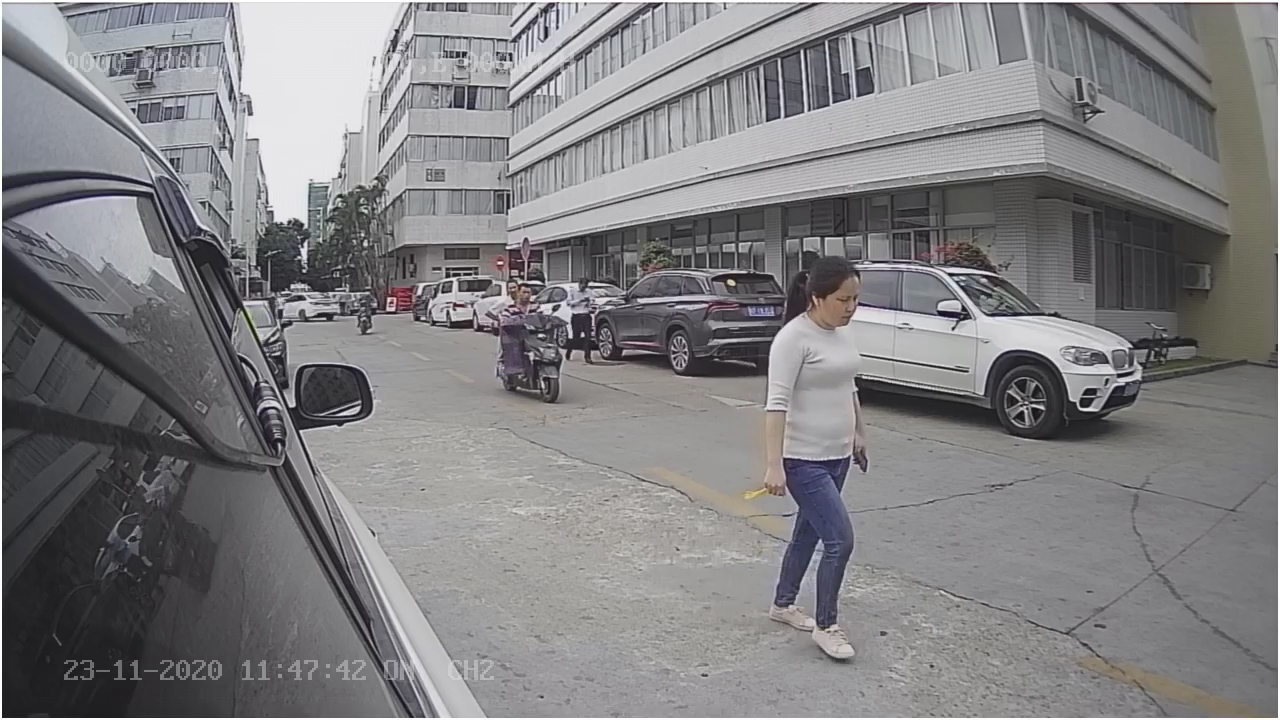person: (763, 265, 904, 667)
